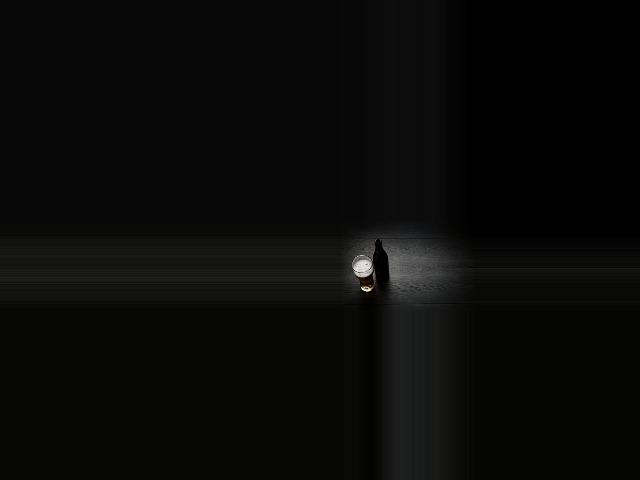beer: (373, 238, 390, 282)
